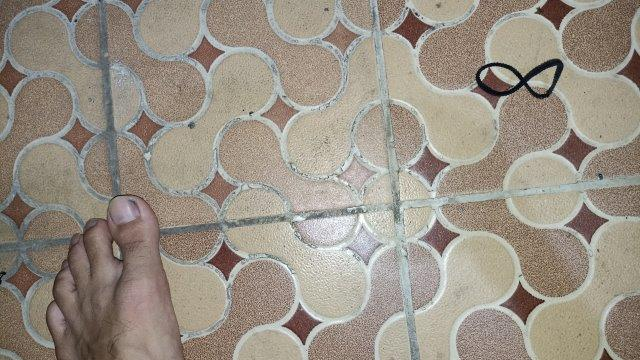karet: (476, 59, 564, 98)
